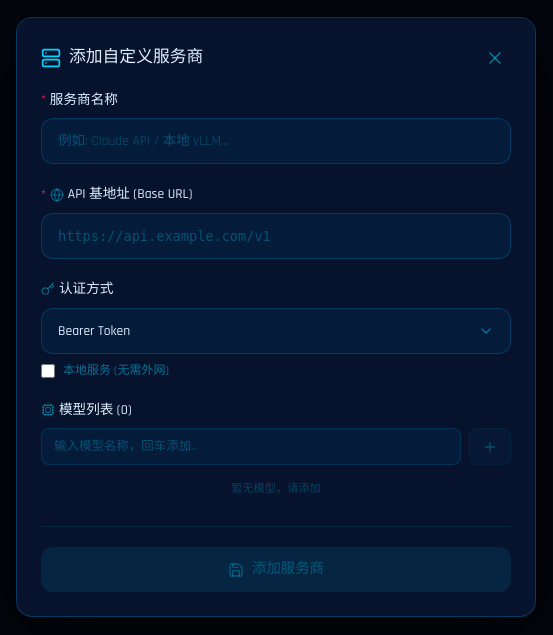
Test: ProviderEditorModal › 新增模式表单 › 点击 + 按钮应添加模型
Type "glm-4.7" into the field with placeholder "输入模型名称，回车添加..." at [251, 447], box [41,428,461,465]
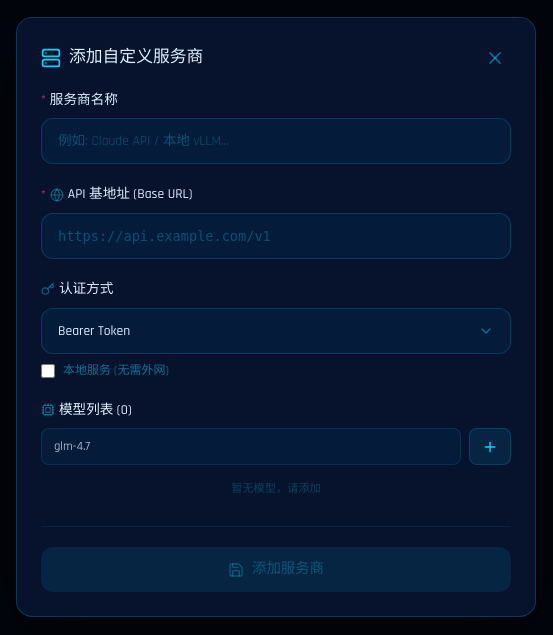
Click the 3rd button at [490, 447], box [469,428,511,465]
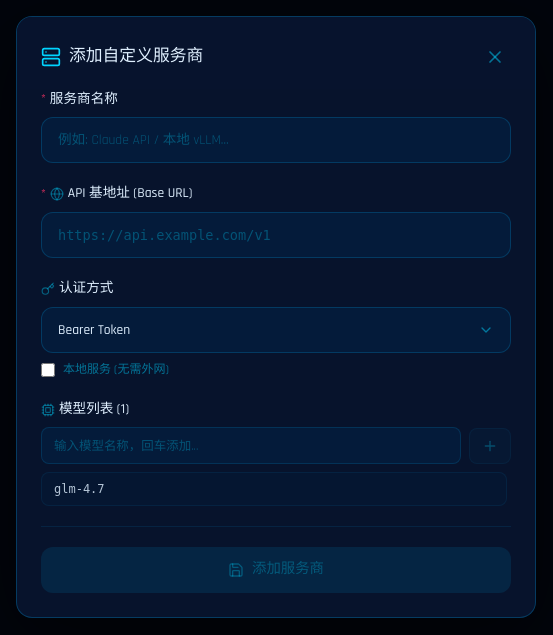
expect the text "glm-4.7" is shown: met, box [54,480,105,498]
expect the text "模型列表 (1)" is shown: met, box [59,399,129,420]
